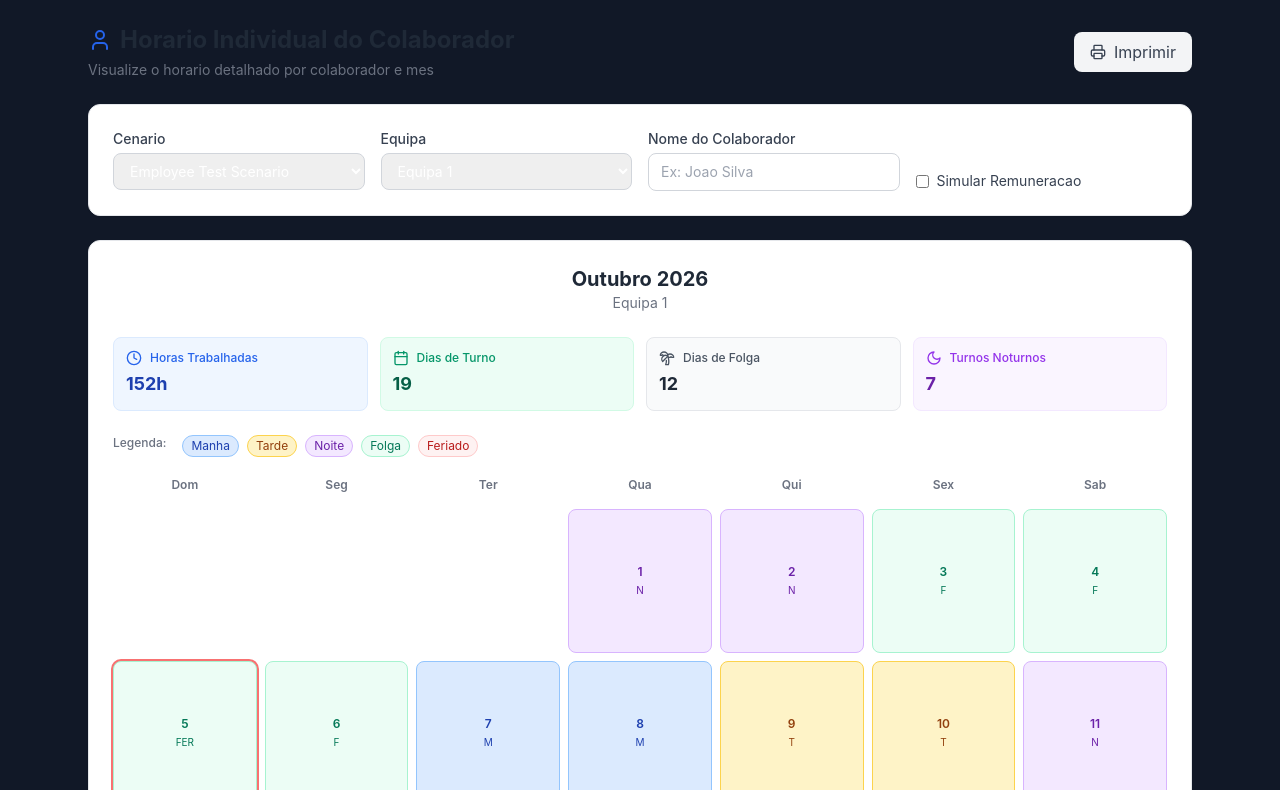
Test: EmployeeSchedule › should show pay simulation section when enabled
Click the checkbox labelled "Simular Remuneracao": [922, 181] box left=916, top=174, right=928, bottom=188
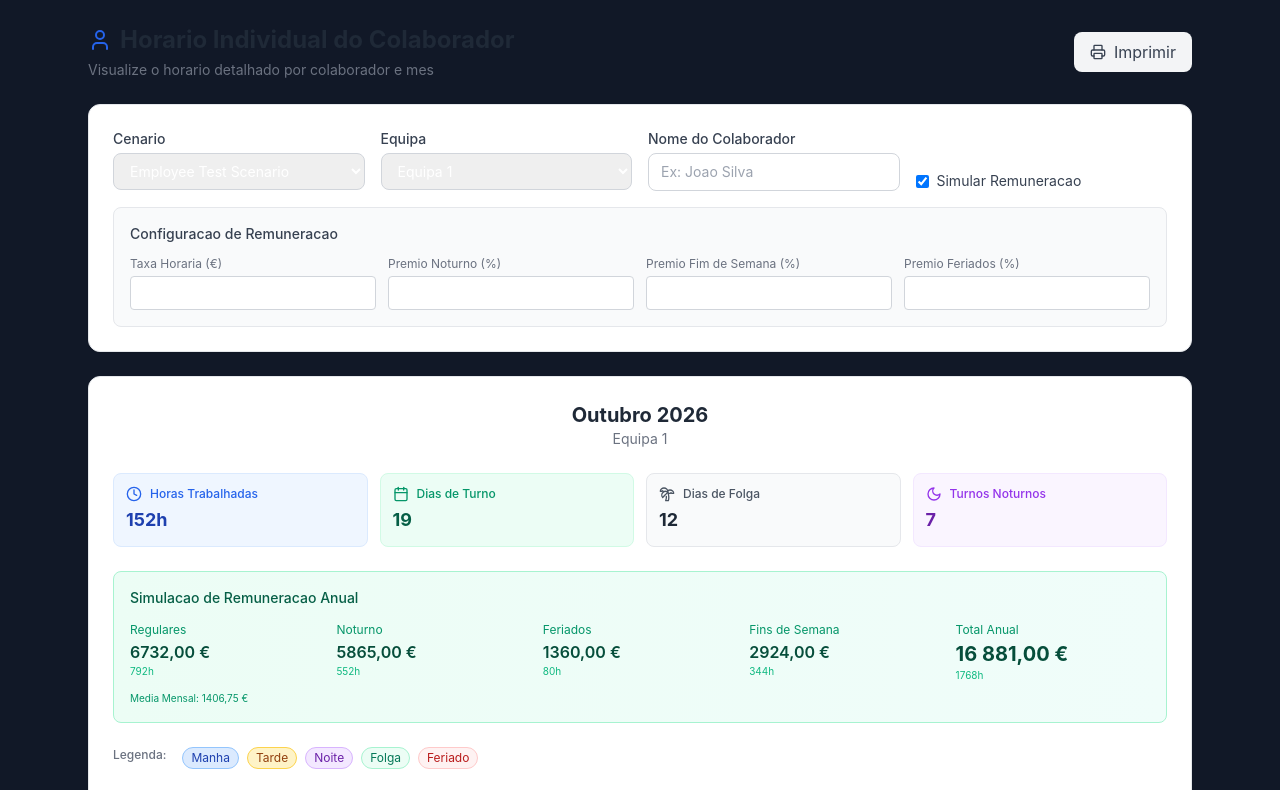
Now the heading "Simulacao de Remuneracao Anual" is shown, box left=130, top=589, right=358, bottom=606
